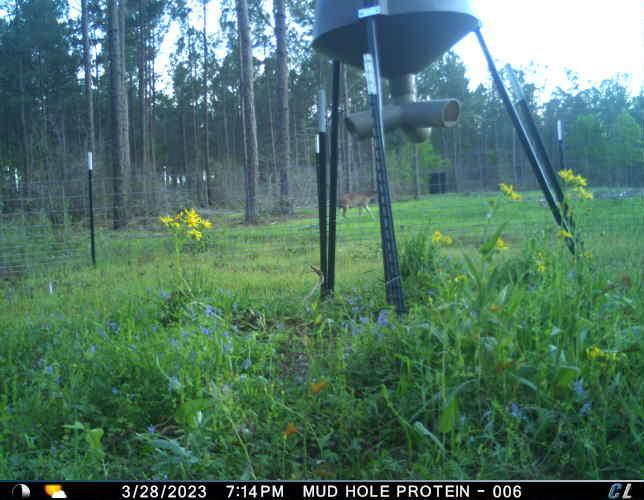Deer: (338, 186, 379, 222)
